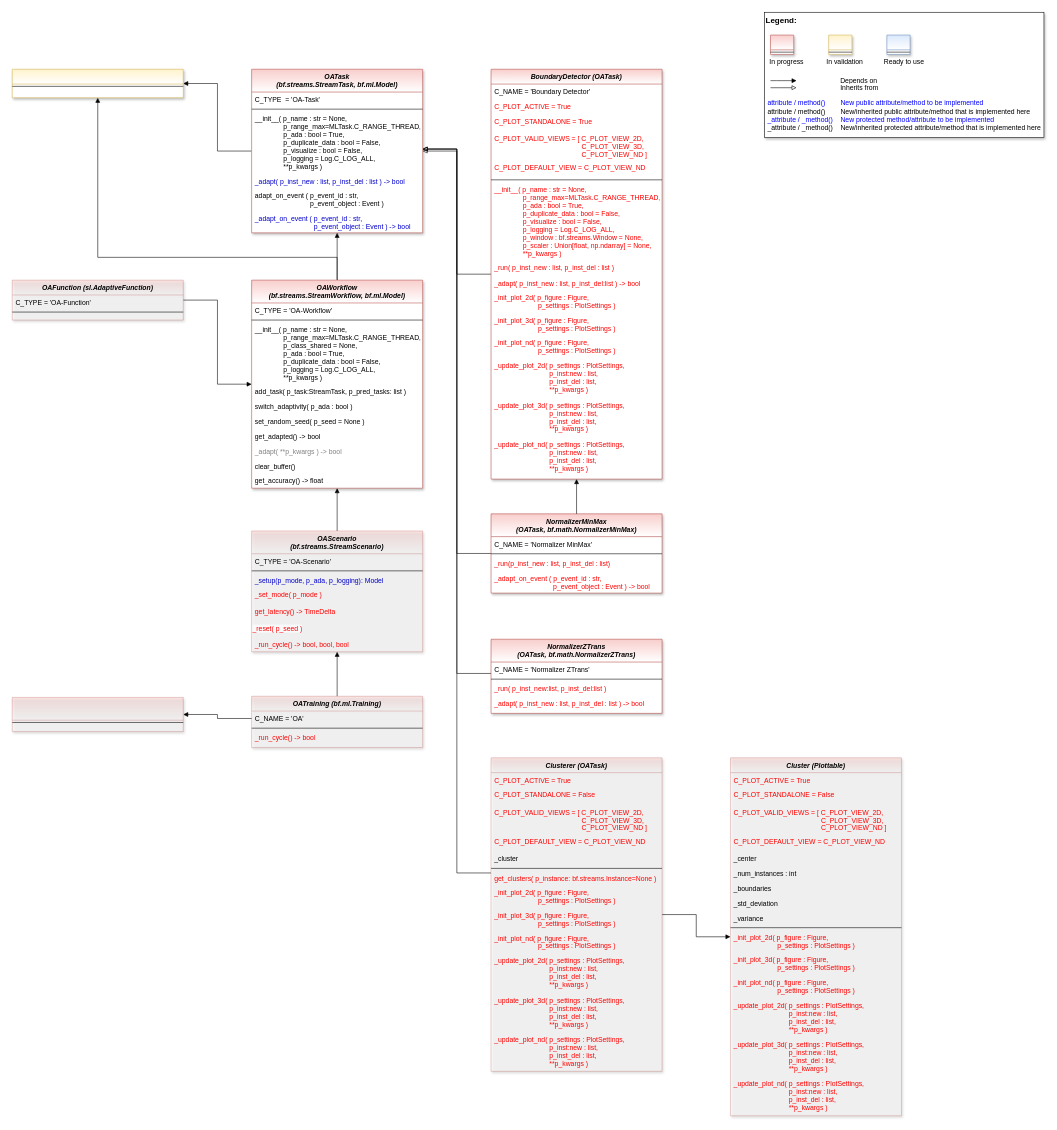
Some shapes in this 1057 by 1130 pixel diagram are drawn without their labels. The centre of each missing label's shape, as x and y in pixels:
OAShared (bf.mt.Shared): point 98,84
OATrainingResults (bf.ml.TrainingResults): point 98,715
